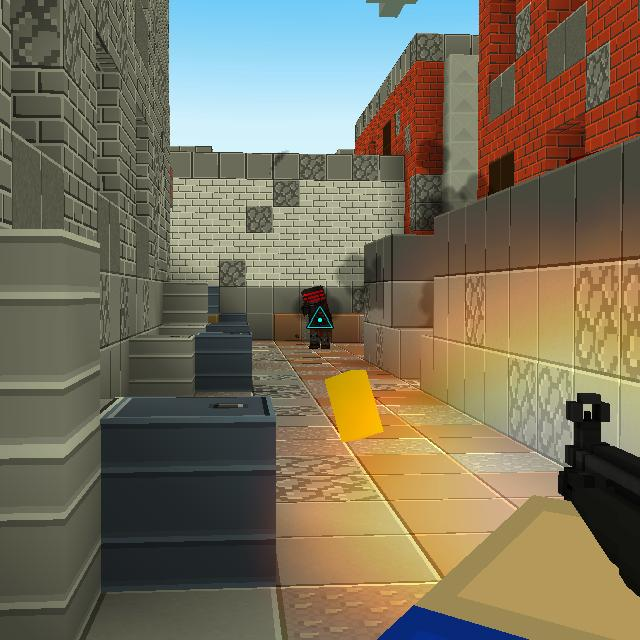enemy: (300, 284, 334, 350)
